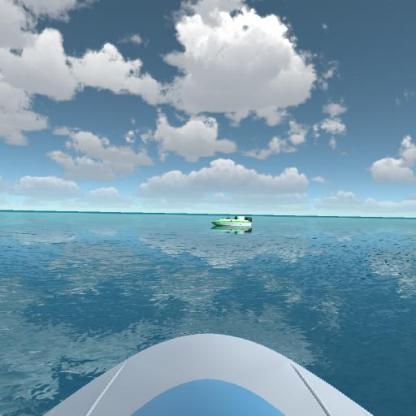usv0: (207, 210, 256, 236)
